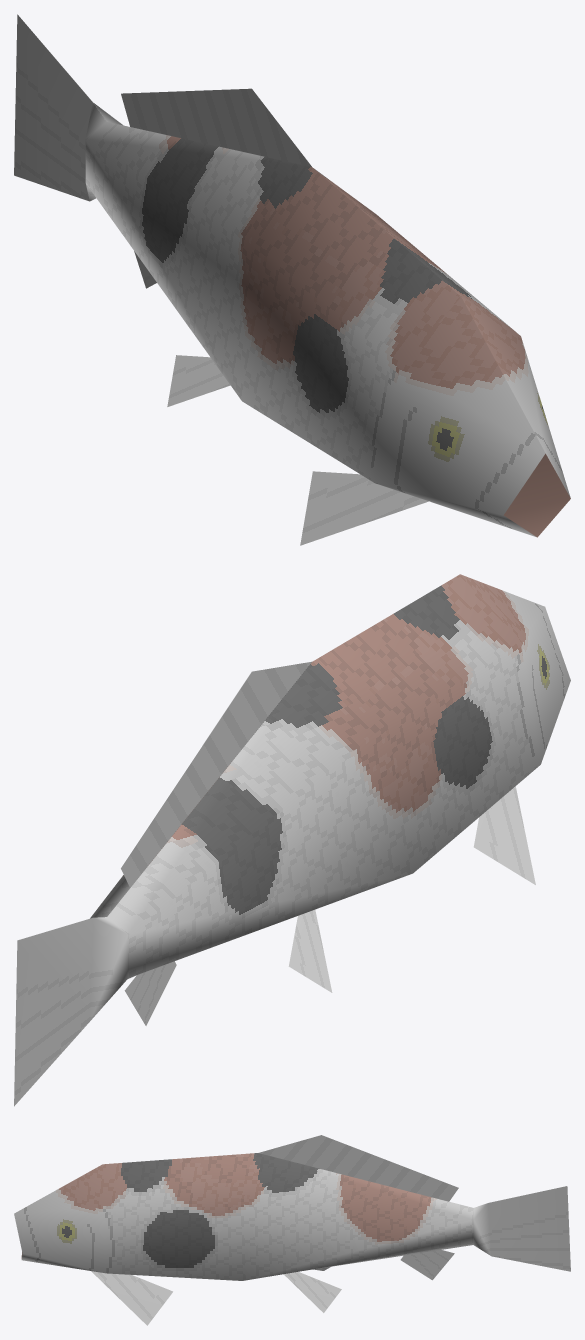
Rendered from 01d9_Carp.glb.
The picture shows the model from 3 angles, top to bottom: view 1: azimuth 30°, elevation 25°; view 2: azimuth 150°, elevation 25°; view 3: azimuth 270°, elevation 25°; orthographic projection. The views are drawn at different scales.
Parts seen in each view (by area): view 1: part_0; view 2: part_0; view 3: part_0.
Part boxes in pixels (x1=…): part_0: x1=14, y1=14, x2=570, y2=545; part_0: x1=14, y1=574, x2=570, y2=1106; part_0: x1=14, y1=1135, x2=570, y2=1325.
Size of the model in its own units: 0.0986 by 0.1225 by 0.3846.
Materials: 1 (1 with a texture image).
